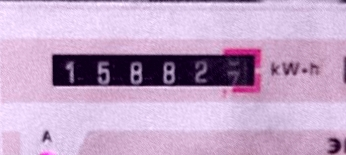1: (63, 59, 78, 85)
2: (193, 59, 209, 83)
5: (95, 59, 112, 85)
7: (226, 67, 241, 87)
8: (128, 60, 145, 86), (161, 60, 177, 85)
screen: (37, 38, 271, 104)
